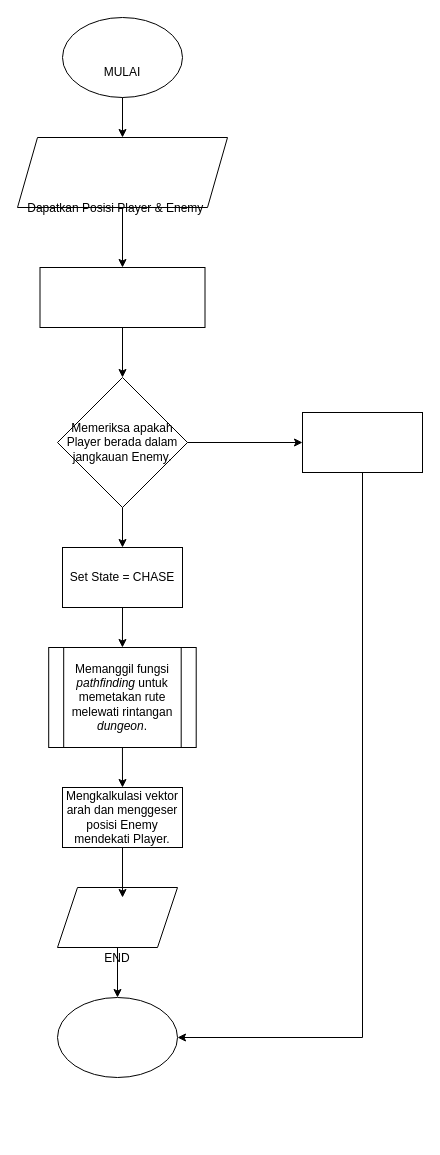
Image size: 440x1155. Some labels were removed from this diagram. The centre of each missing label's shape, as x and y in pixels:
"Melakukan kalkulasi jarak menggunakan rumus Euclidean Distance ." goes at point 122,297.
"Mengirimkan output log pergerakan" goes at point 117,917.
"Set State = IDLE / PATROL" goes at point 362,442.
